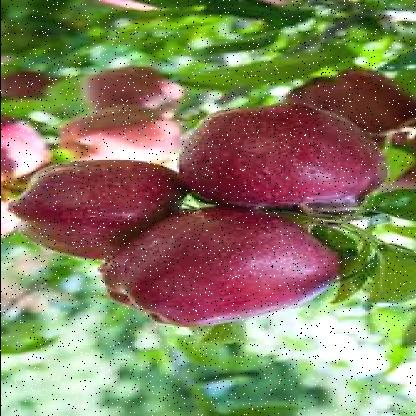apple: (99, 210, 344, 333), (184, 106, 382, 210), (3, 158, 178, 265)
